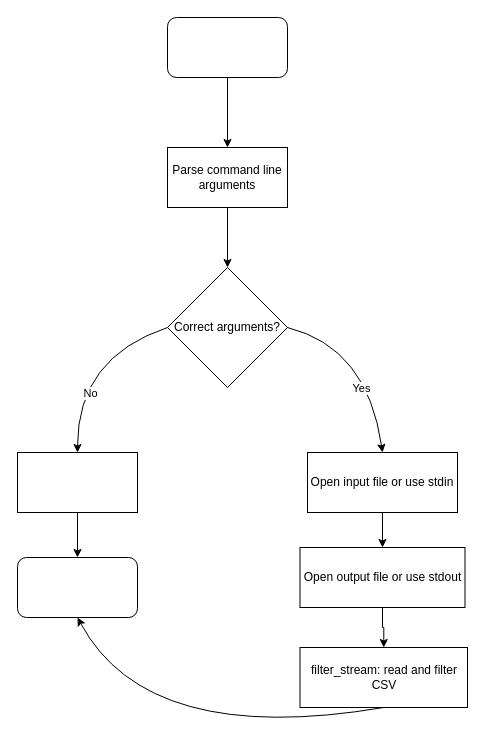
This 485x735 diagram has some shape labels left out. Here are the shapes that lost their labels. From the top down, the centre of each, then its label:
At (227,47): "Start".
At (77,482): "Show usage message".
At (77,587): "End".
